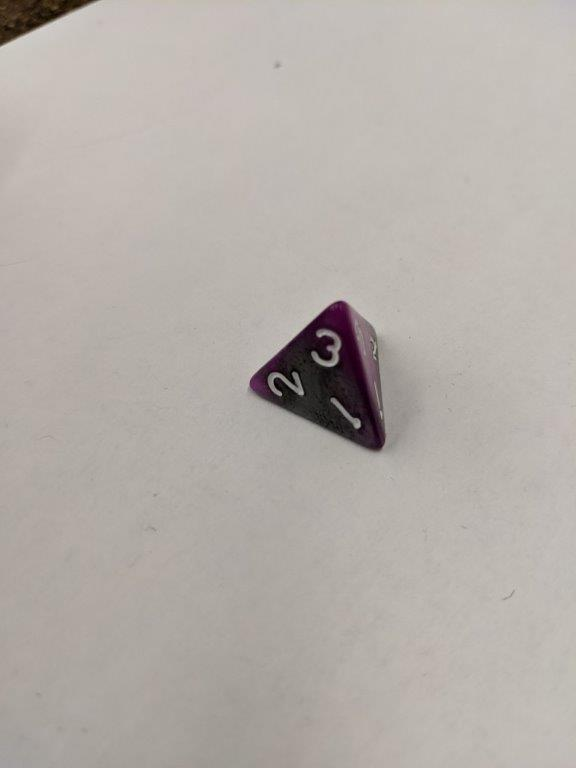d4-3: (247, 296, 388, 456)
